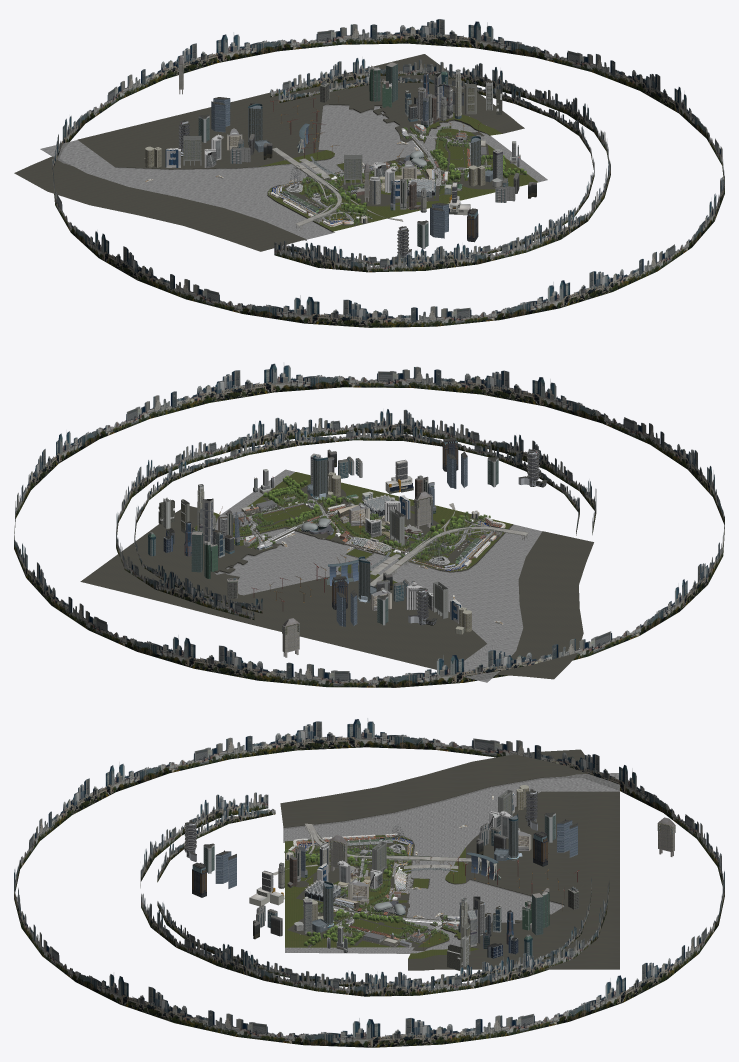
Rendered from marina_bay_street_circuit-optimized.glb.
The picture shows the model from 3 angles, top to bottom: view 1: azimuth 30°, elevation 25°; view 2: azimuth 150°, elevation 25°; view 3: azimuth 270°, elevation 25°; orthographic projection. The views are drawn at different scales.
Visible parts, largest first — view 1: Untitled_0; view 2: Untitled_0; view 3: Untitled_0.
Part boxes in pixels (x1,y1,x2,y2): Untitled_0: [14, 19, 724, 327]; Untitled_0: [14, 363, 724, 687]; Untitled_0: [14, 718, 724, 1047].
Size of what is drawn, in the model's own units: 4301 by 385 by 4301.
99 materials, 97 textured.
